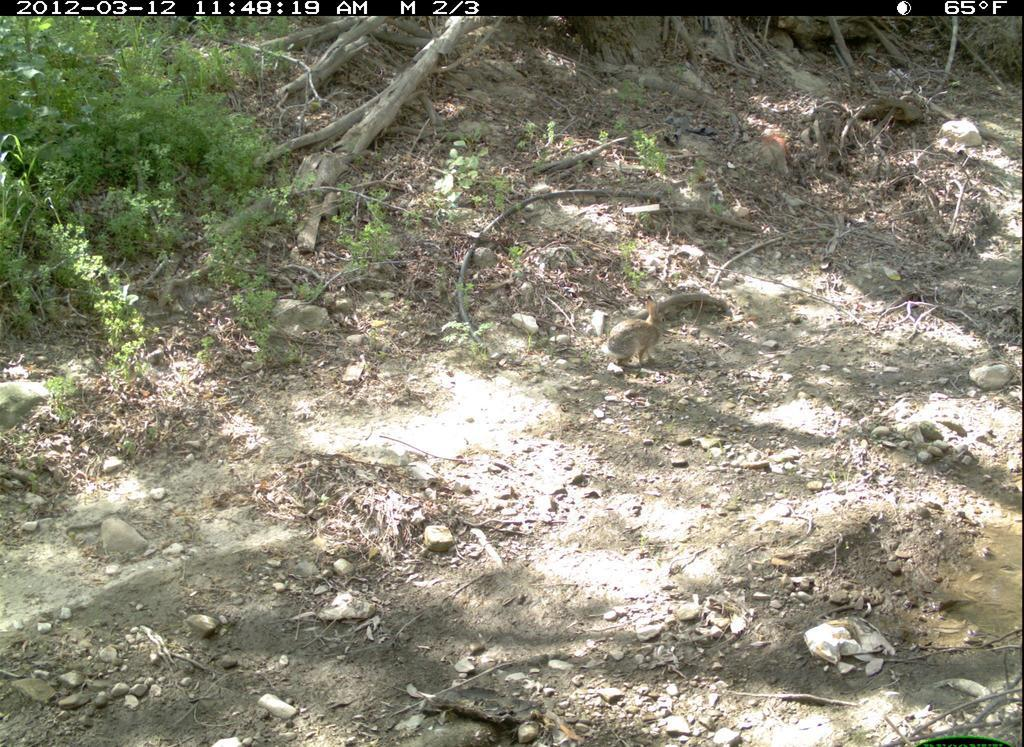rabbit: (600, 296, 675, 368)
